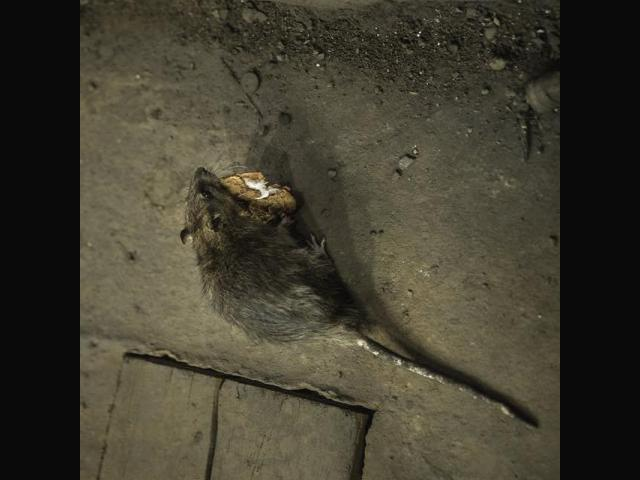Tikus: (178, 165, 398, 365)
